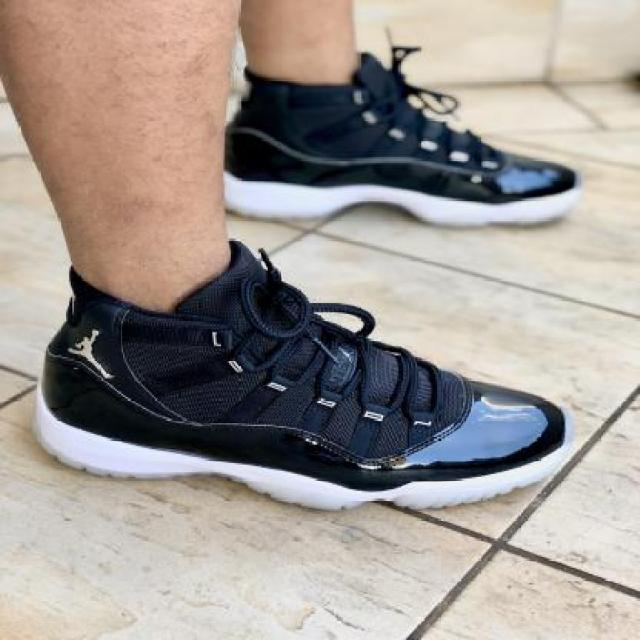shoe: (34, 240, 574, 512), (230, 50, 588, 227)
